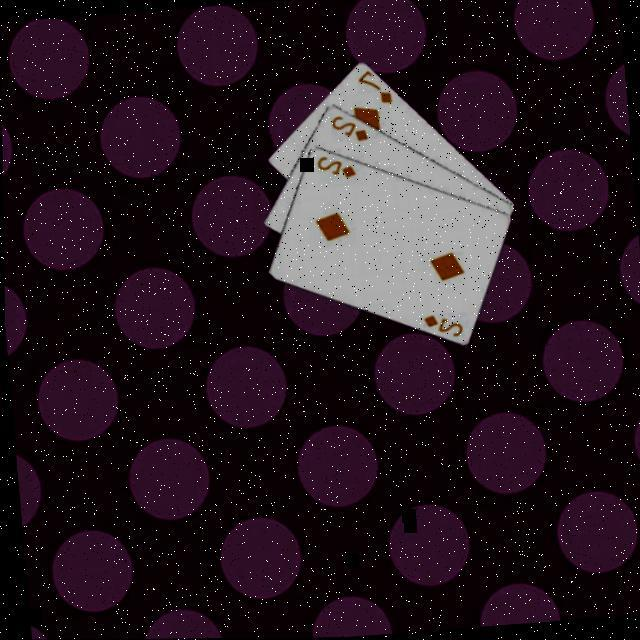2D: (325, 111, 369, 148), (418, 311, 464, 344), (311, 152, 356, 185)
7D: (352, 68, 394, 111)
